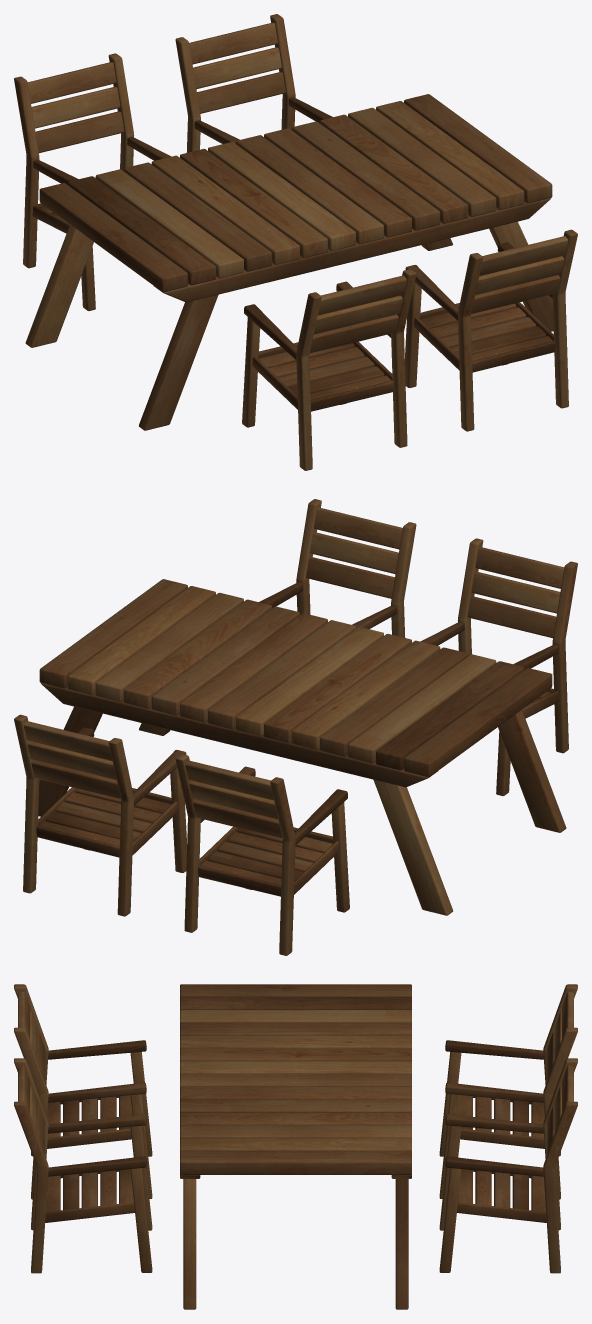
File: DiningSet.glb
3 views of the same model, one above another, from view 1: azimuth 30°, elevation 25°; view 2: azimuth 150°, elevation 25°; view 3: azimuth 270°, elevation 25° (orthographic). The views are drawn at different scales.
Parts seen in each view (by area): view 1: DiningTable, DiningChair.002, DiningChair.001, DiningChair.003, DiningChair; view 2: DiningTable, DiningChair.003, DiningChair, DiningChair.002, DiningChair.001; view 3: DiningTable, DiningChair.001, DiningChair, DiningChair.003, DiningChair.002.
Part boxes in pixels (x1,y1,x2,y2): DiningTable: [25, 94, 553, 430]; DiningChair.002: [242, 269, 416, 470]; DiningChair.001: [405, 229, 577, 431]; DiningChair.003: [14, 53, 171, 310]; DiningChair: [175, 14, 332, 152]; DiningTable: [38, 579, 566, 915]; DiningChair.003: [175, 754, 349, 955]; DiningChair: [14, 714, 186, 916]; DiningChair.002: [420, 538, 577, 795]; DiningChair.001: [259, 499, 416, 637]; DiningTable: [180, 984, 411, 1309]; DiningChair.001: [14, 1058, 152, 1273]; DiningChair: [439, 1058, 577, 1273]; DiningChair.003: [439, 984, 577, 1199]; DiningChair.002: [14, 984, 152, 1199].
Size of the model in its own units: 0.8351 by 0.3413 by 1.03.
Materials: 2 (2 with a texture image).
